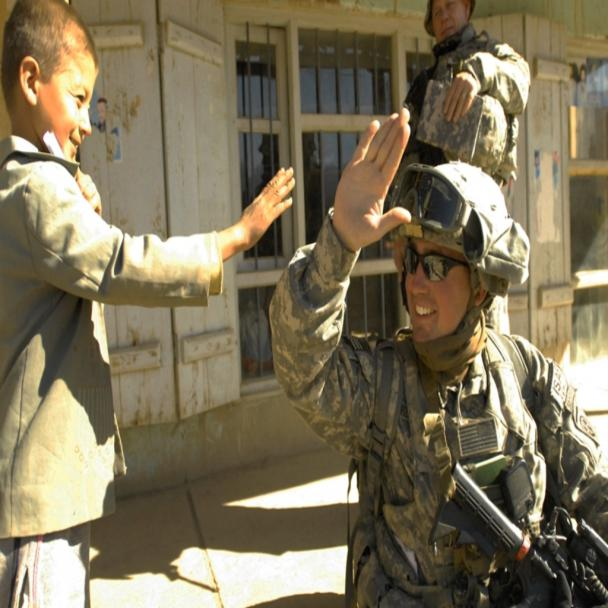Gun: (427, 438, 607, 607)
Hand: (330, 83, 420, 284), (197, 149, 302, 295), (443, 57, 478, 138)
